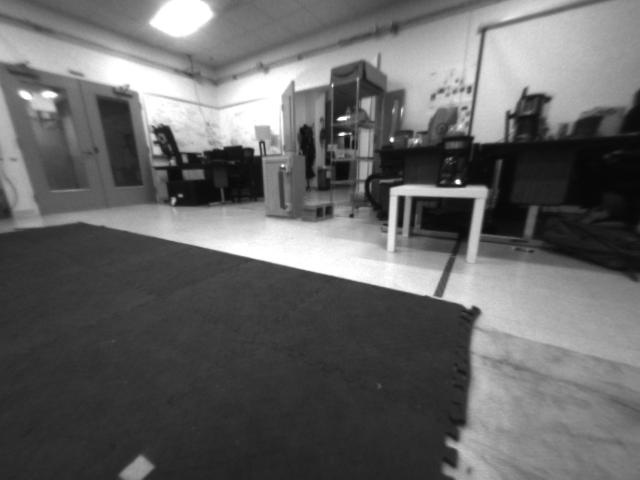coffee_pot: (438, 134, 469, 191)
